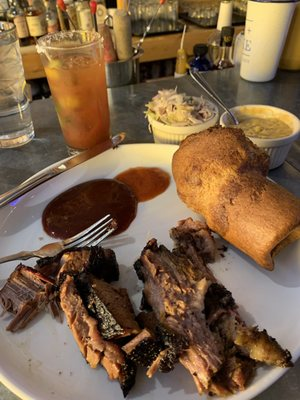burger: (0, 213, 117, 269)
pizza: (36, 29, 110, 155), (238, 0, 300, 84), (0, 20, 36, 149)
salad: (188, 70, 239, 126)
soup: (171, 126, 300, 271)
sushi: (209, 104, 300, 172), (145, 92, 219, 144)
